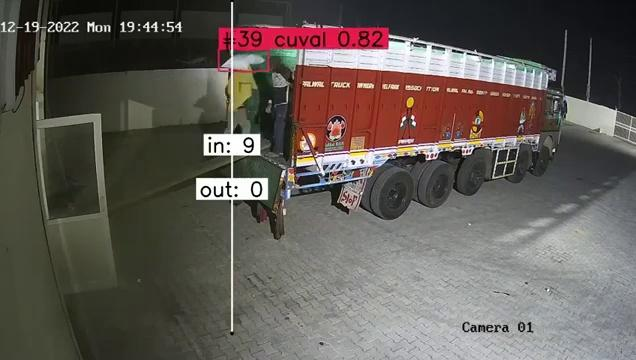karung: (220, 51, 266, 70)
